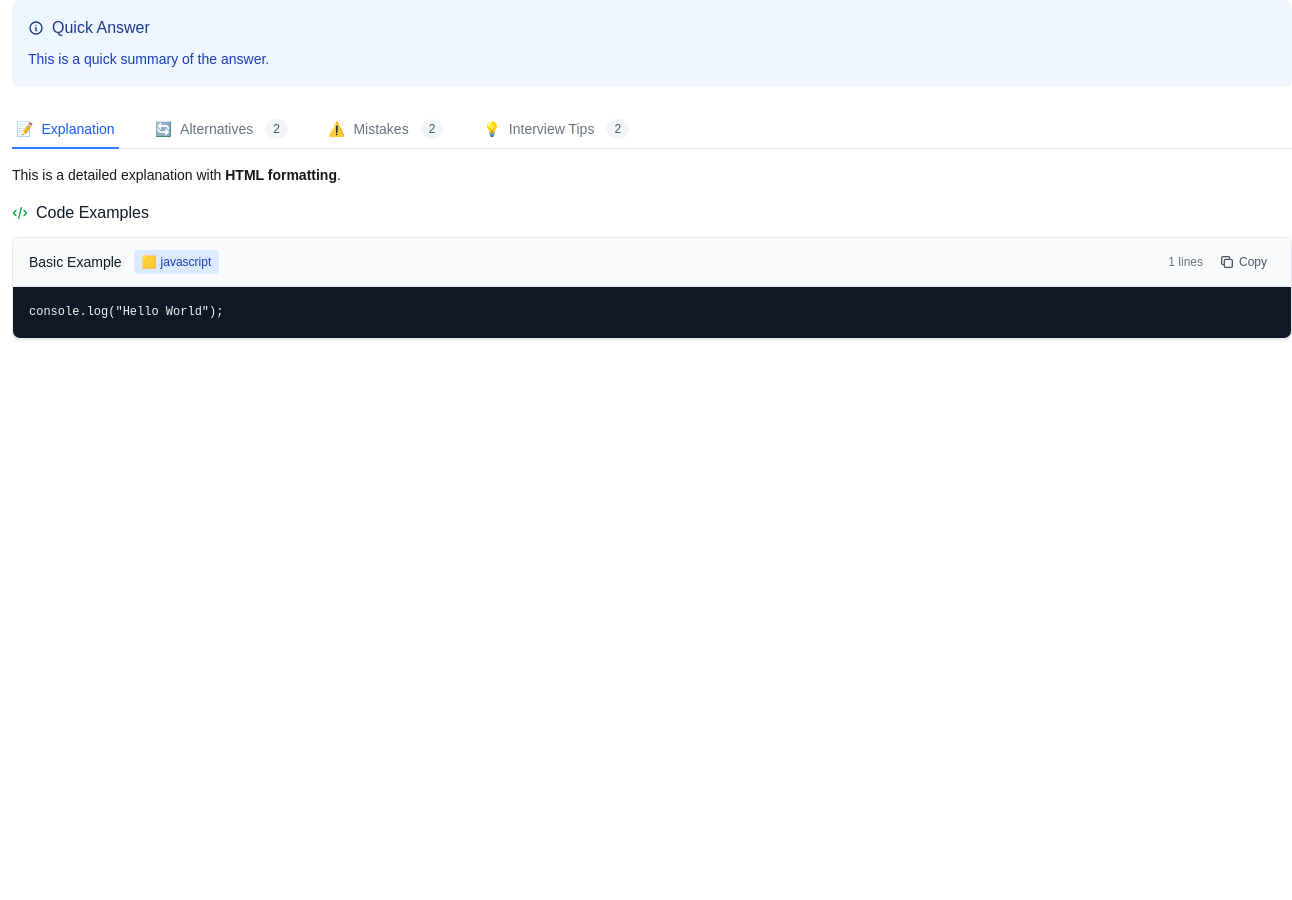
it: DetailedAnswer › switches to alternatives tab when clicked
Click the button "🔄 Alternatives 2".
click(221, 130)  # box 151,111 -> 292,149
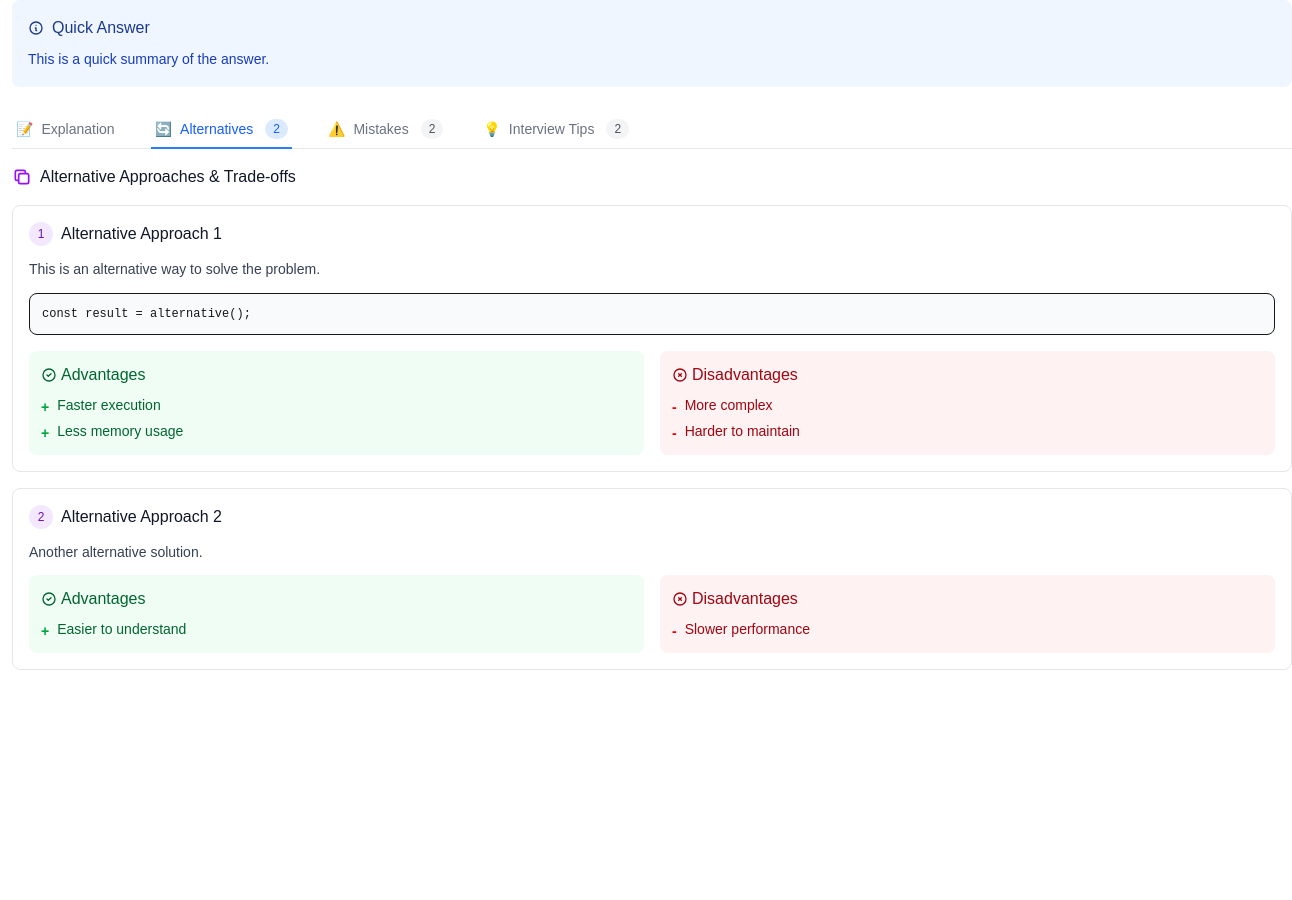
Expected: the heading "Alternative Approaches & Trade-offs" is shown, 40,165 -> 296,189
Expected: the heading "1 Alternative Approach 1" is shown, 29,222 -> 222,246
Expected: the heading "2 Alternative Approach 2" is shown, 29,504 -> 222,528
